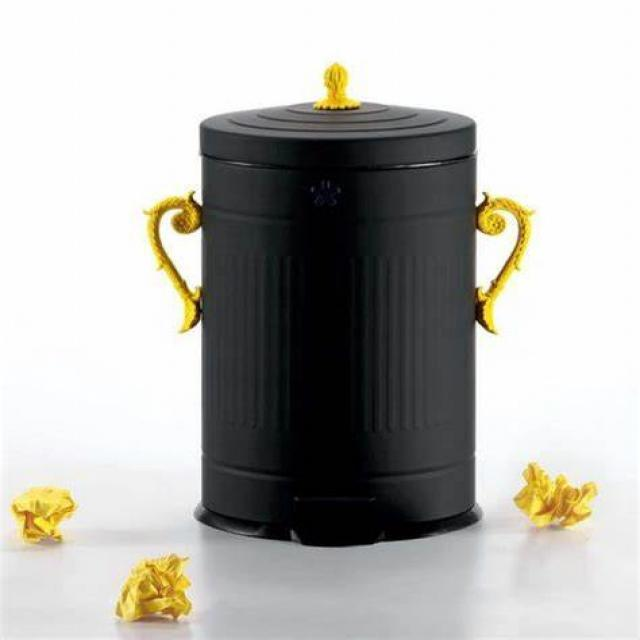garbage container: (133, 55, 543, 556)
